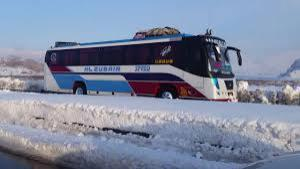bus: (43, 24, 243, 101)
